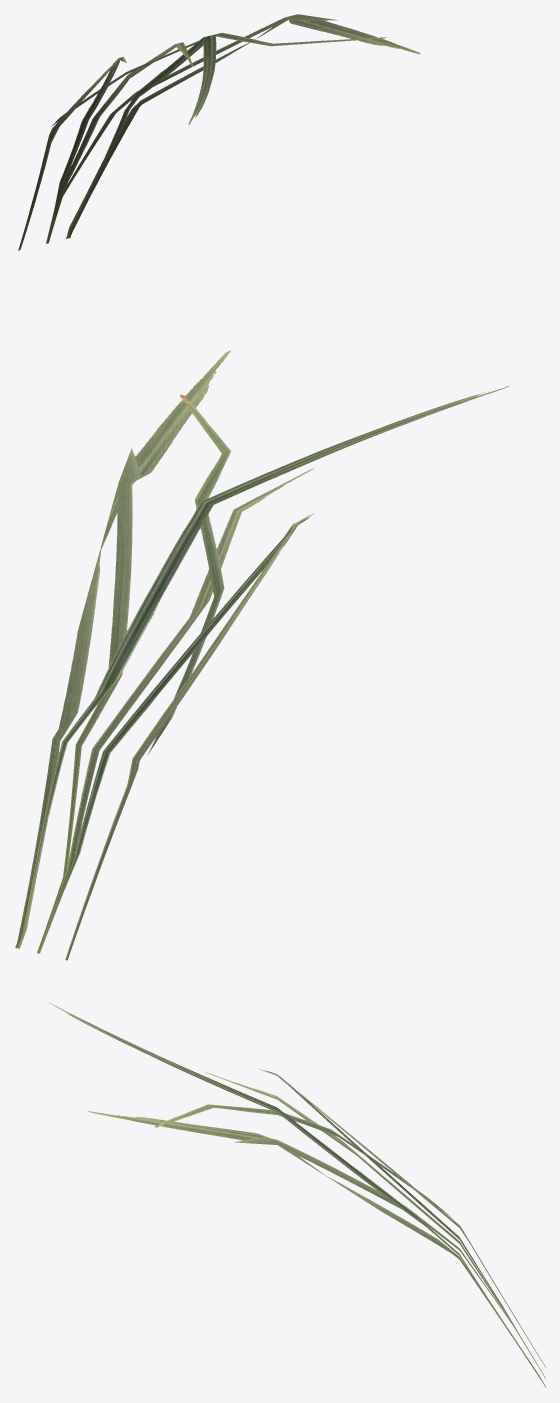
The model's file is grass_4.fbx.
3 views of the same model, one above another, from view 1: azimuth 30°, elevation 25°; view 2: azimuth 150°, elevation 25°; view 3: azimuth 270°, elevation 25° (orthographic). The views are drawn at different scales.
Visible parts, largest first — view 1: Plane010; view 2: Plane010; view 3: Plane010.
Part boxes in pixels (left/top/right/bottom): Plane010: left=18, top=14, right=420, bottom=250; Plane010: left=15, top=350, right=509, bottom=960; Plane010: left=49, top=1003, right=545, bottom=1387.
Bounding box in the file's own units: 4.03 × 6.54 × 4.31.
1 material, 1 textured.
